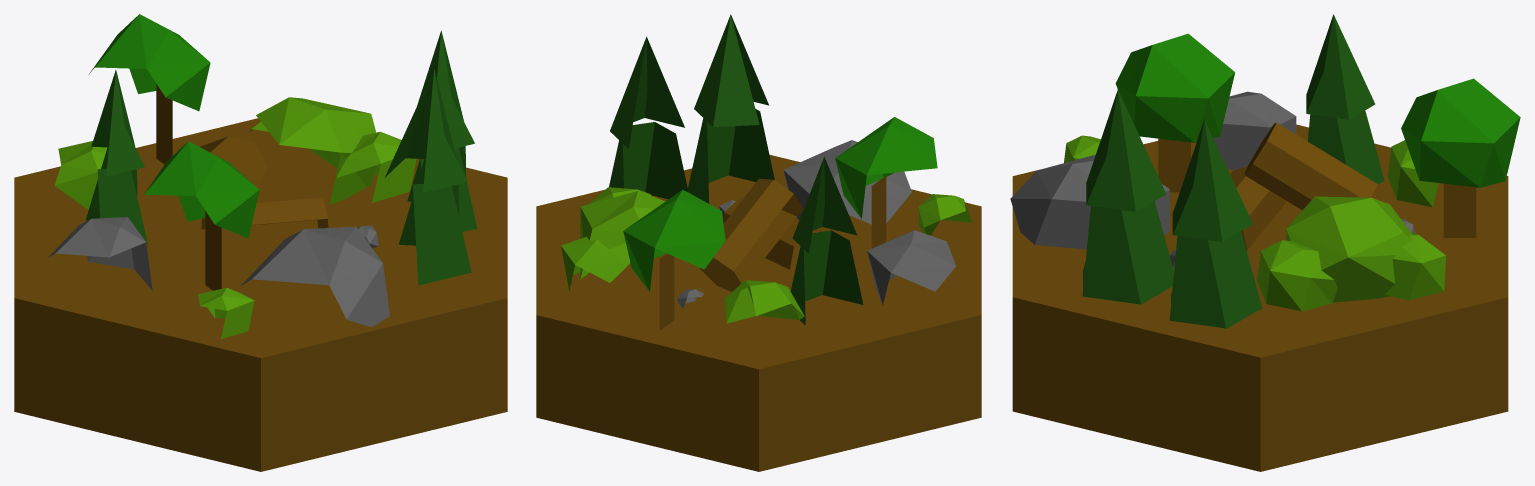
File: Wood2-90.fbx
The picture shows the model from 3 angles, left to right: view 1: azimuth 30°, elevation 25°; view 2: azimuth 150°, elevation 25°; view 3: azimuth 270°, elevation 25°; orthographic projection. The views are drawn at different scales.
Parts seen in each view (by area): view 1: Cylinder; view 2: Cylinder; view 3: Cylinder.
Boxes of the visible parts, x1,y1,x2,y2 form: Cylinder: [14, 14, 507, 471]; Cylinder: [536, 14, 981, 471]; Cylinder: [1010, 14, 1520, 471].
Bounding box in the file's own units: 1.78 × 1.2 × 2.
